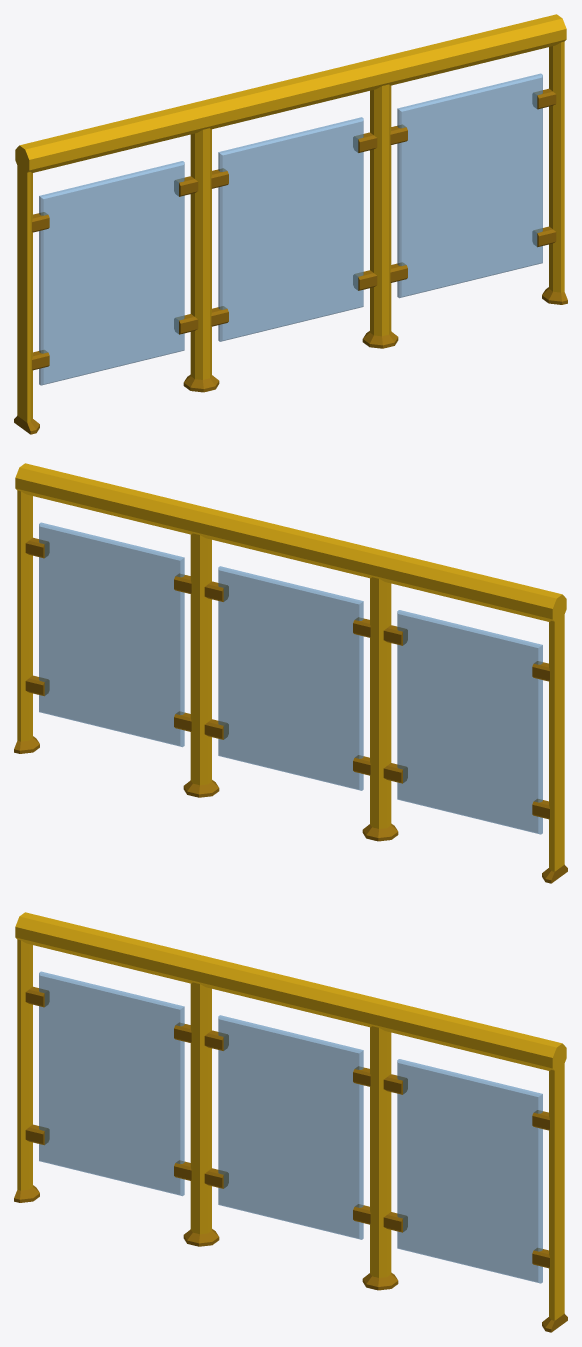
File: brass-and-glass-railing-e6a84e.glb
3 views of the same model, one above another, from view 1: azimuth 30°, elevation 25°; view 2: azimuth 150°, elevation 25°; view 3: azimuth 330°, elevation 25° (orthographic).
Visible parts, largest first — view 1: glass, frame; view 2: glass, frame; view 3: glass, frame.
Boxes of the visible parts, x1,y1,x2,y2 form: glass: (39, 73, 542, 385); frame: (14, 14, 567, 434); glass: (39, 522, 542, 834); frame: (14, 463, 567, 883); glass: (39, 971, 542, 1283); frame: (14, 912, 567, 1332).
Size of the model in its own units: 2 by 1 by 0.107.
